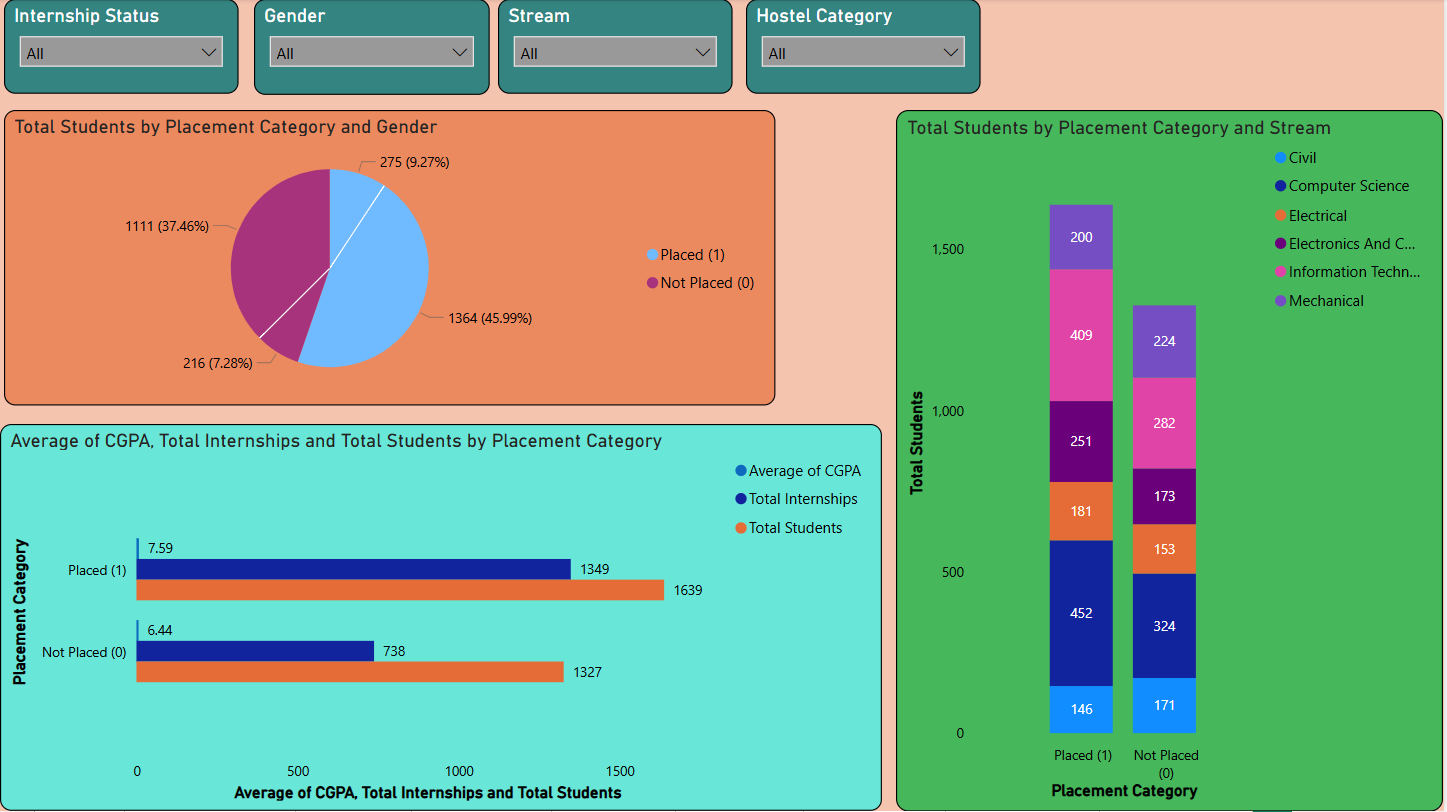

This screenshot's page, from the dashboard's own definition file:
{"tool":"powerbi","page":{"name":"Summary by Dataset","canvas":[1280,720],"ordinal":7},"visuals":[{"type":"columnChart","fields":{"Category":["collegePlace. placement1"],"Y":["CountNonNull(collegePlace.Age)"],"Series":["collegePlace.Stream"]},"box":[794.7,98.2,485.3,621.5],"z":0},{"type":"pieChart","fields":{"Category":["collegePlace. placement1"],"Y":["CountNonNull(collegePlace.Age)"],"Series":["collegePlace.Gender"]},"box":[3.9,98.2,683.8,261.6],"z":1000},{"type":"clusteredBarChart","fields":{"Category":["collegePlace. placement1"],"Y":["Avg(collegePlace.CGPA)","Sum(collegePlace.Internships)","CountNonNull(collegePlace. placement1)"]},"box":[0,376.4,782,343.3],"z":2000},{"type":"slicer","title":"Stream","fields":{"Values":["collegePlace.Stream"]},"box":[441.6,0,208.4,84.2],"z":3000},{"type":"slicer","title":"Hostel Category","fields":{"Values":["collegePlace.Hostel Category"]},"box":[661.5,0,208.4,84.2],"z":4000},{"type":"slicer","title":"Internship Status","fields":{"Values":["collegePlace.Internship Status"]},"box":[3.5,0,208.4,84.2],"z":5000},{"type":"slicer","title":"Gender","fields":{"Values":["collegePlace.Gender"]},"box":[225.7,0,209.1,84.6],"z":6000}]}

Visuals, with their boxes in screenshot pixels (x1, y1, x2, y2), scaled from the page's 1280x720 canvas onto the 1447x812 screenshot:
columnChart - collegePlace. placement1 x CountNonNull(collegePlace.Age): x1=898 y1=111 x2=1446 y2=811
pieChart - collegePlace. placement1 x CountNonNull(collegePlace.Age): x1=4 y1=111 x2=777 y2=406
clusteredBarChart - collegePlace. placement1 x Avg(collegePlace.CGPA): x1=0 y1=424 x2=884 y2=811
"Stream" slicer: x1=499 y1=0 x2=735 y2=95
"Hostel Category" slicer: x1=748 y1=0 x2=983 y2=95
"Internship Status" slicer: x1=4 y1=0 x2=240 y2=95
"Gender" slicer: x1=255 y1=0 x2=492 y2=95
